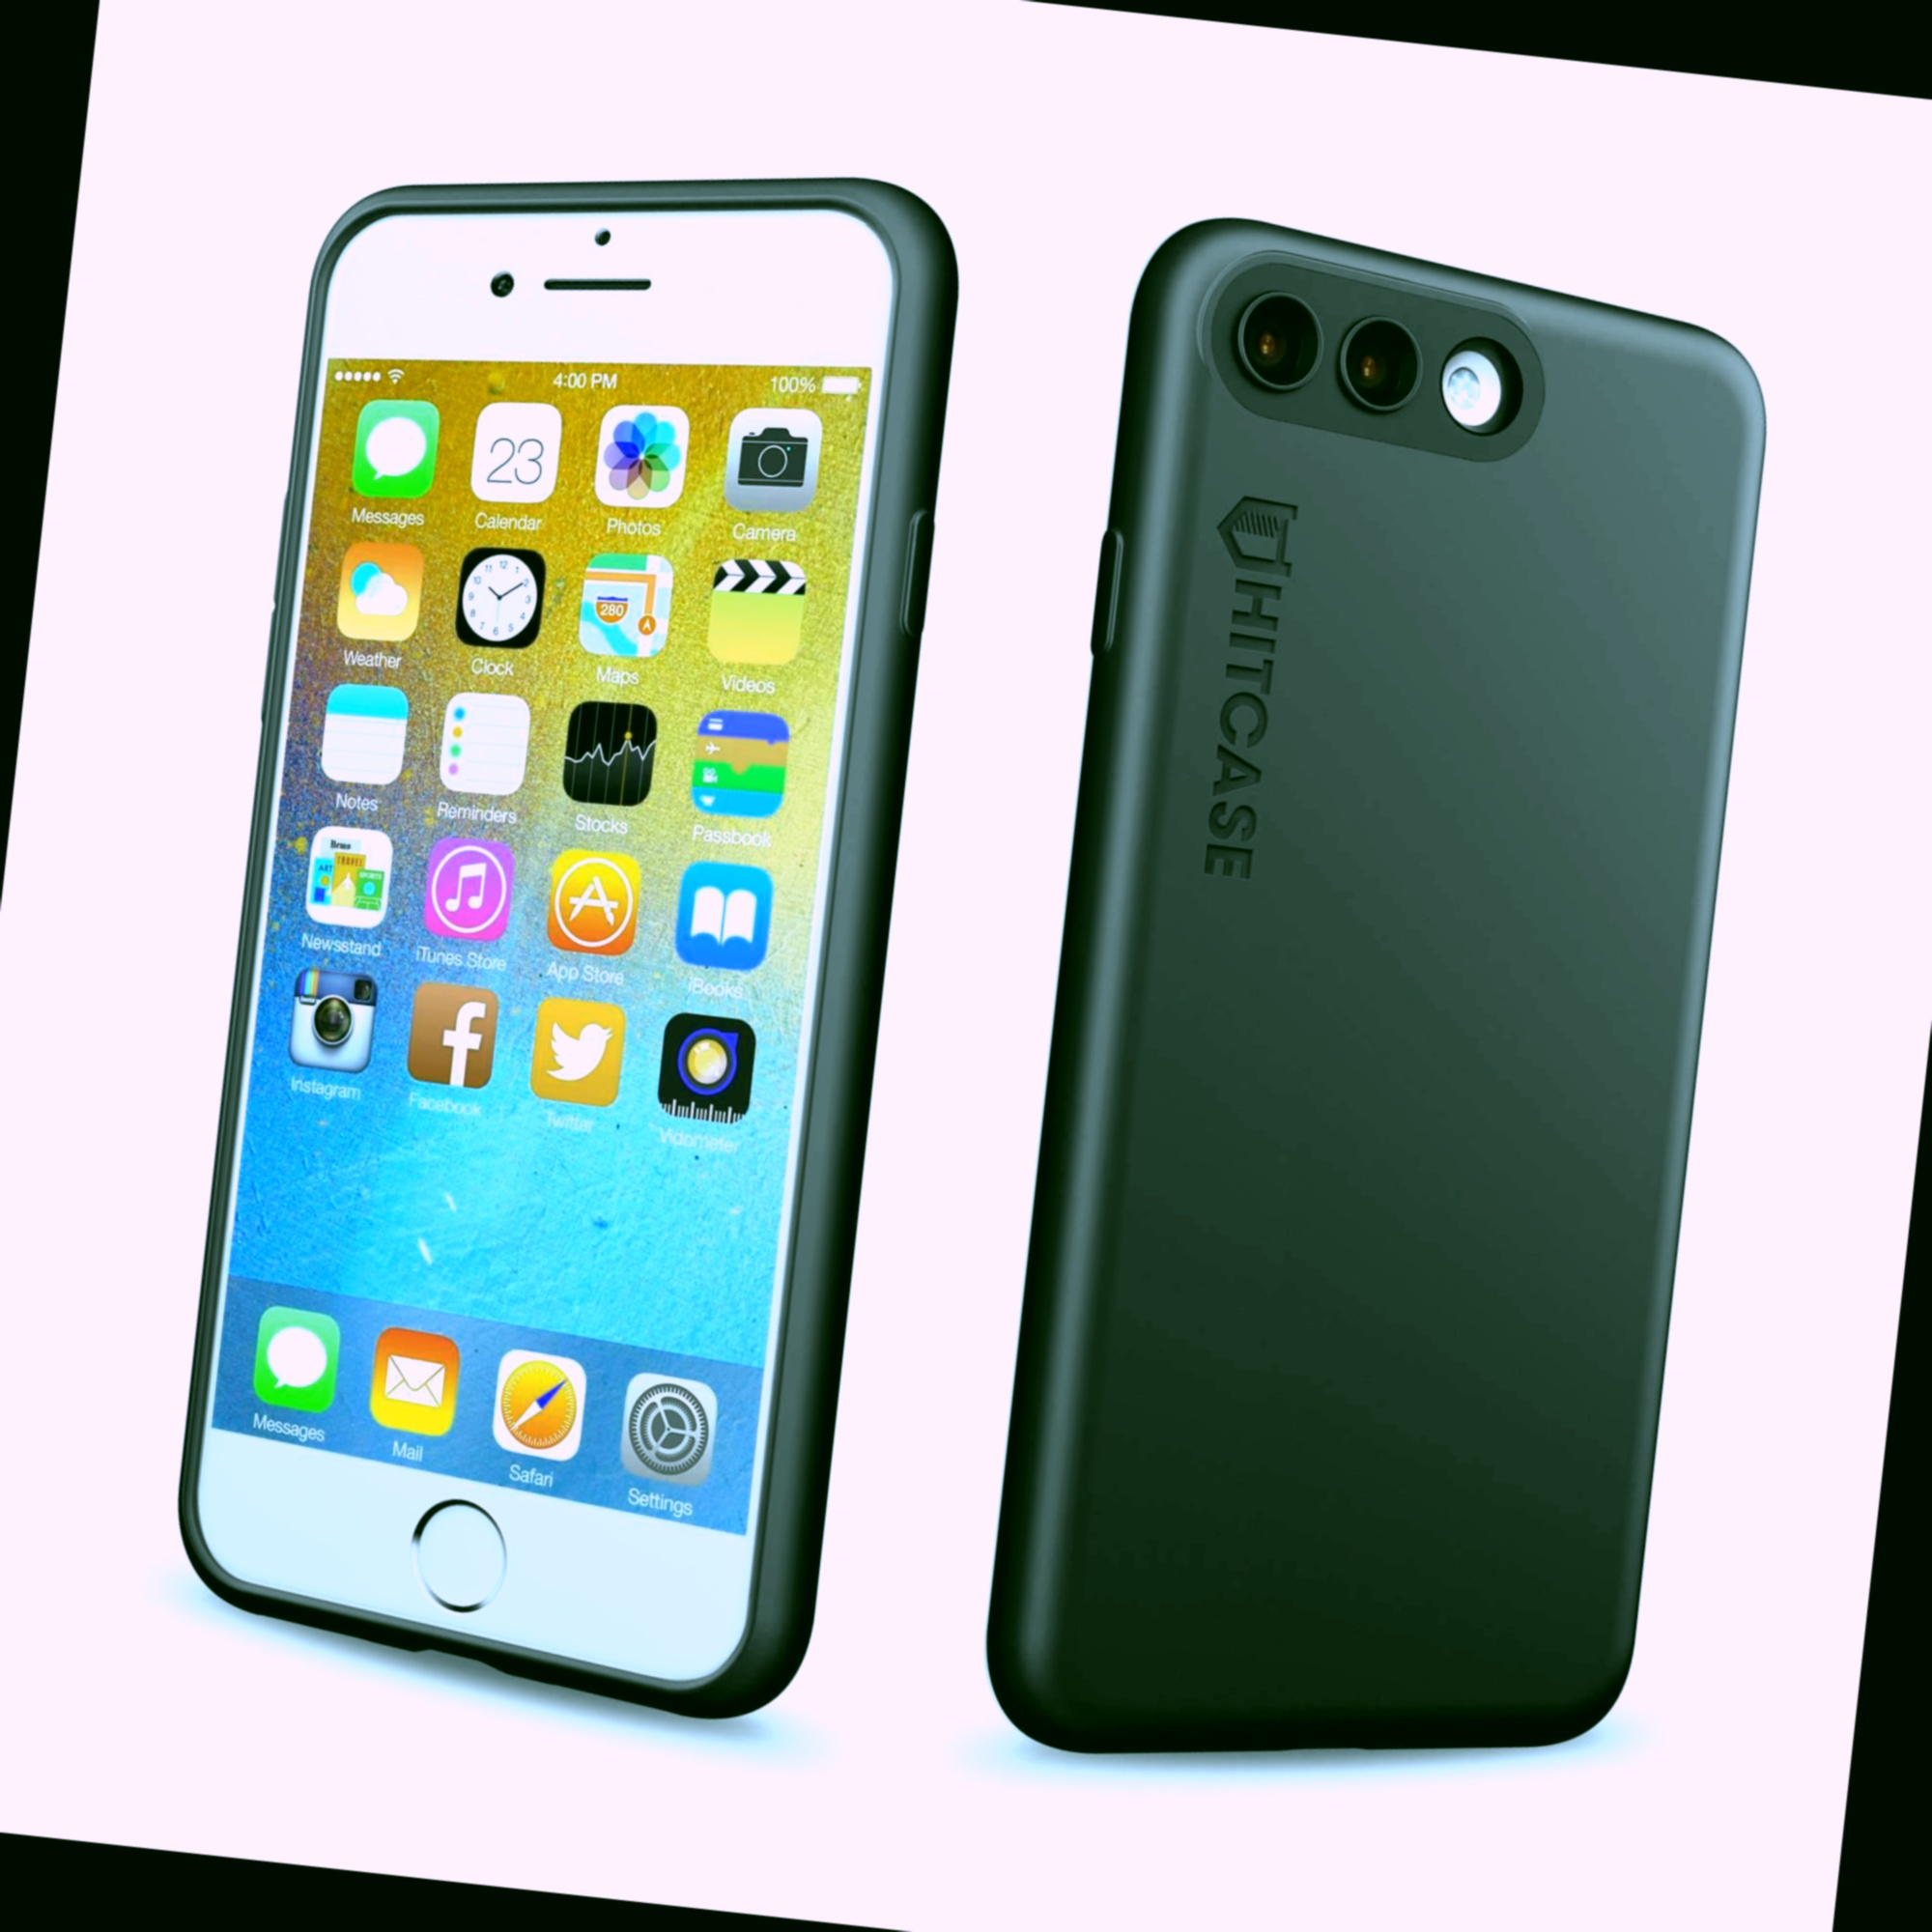iphone: (1053, 195, 1709, 1736), (237, 193, 888, 1743)
